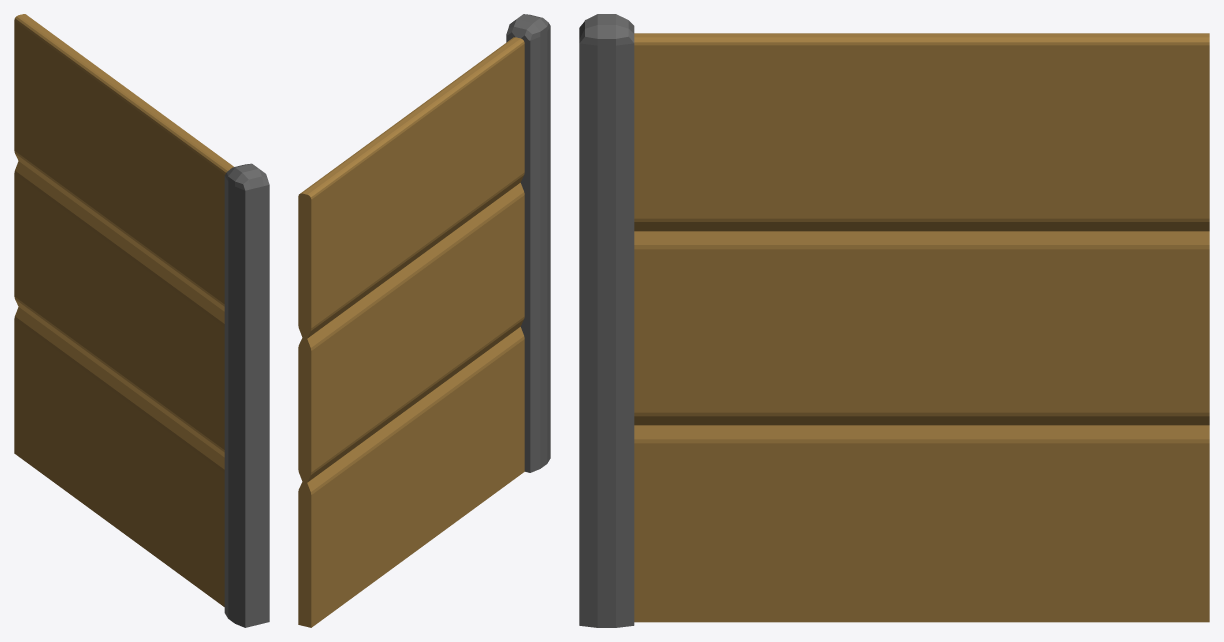
File: BasicWall.fbx
The picture shows the model from 3 angles, left to right: view 1: azimuth 30°, elevation 25°; view 2: azimuth 150°, elevation 25°; view 3: azimuth 270°, elevation 25°; orthographic projection. The views are drawn at different scales.
Parts seen in each view (by area): view 1: Cube; view 2: Cube; view 3: Cube.
Part boxes in pixels (bbox=[...]): Cube: bbox=[14, 14, 269, 627]; Cube: bbox=[298, 14, 550, 627]; Cube: bbox=[579, 14, 1209, 627].
Bounding box in the file's own units: 86.67 × 1197 × 1142.
